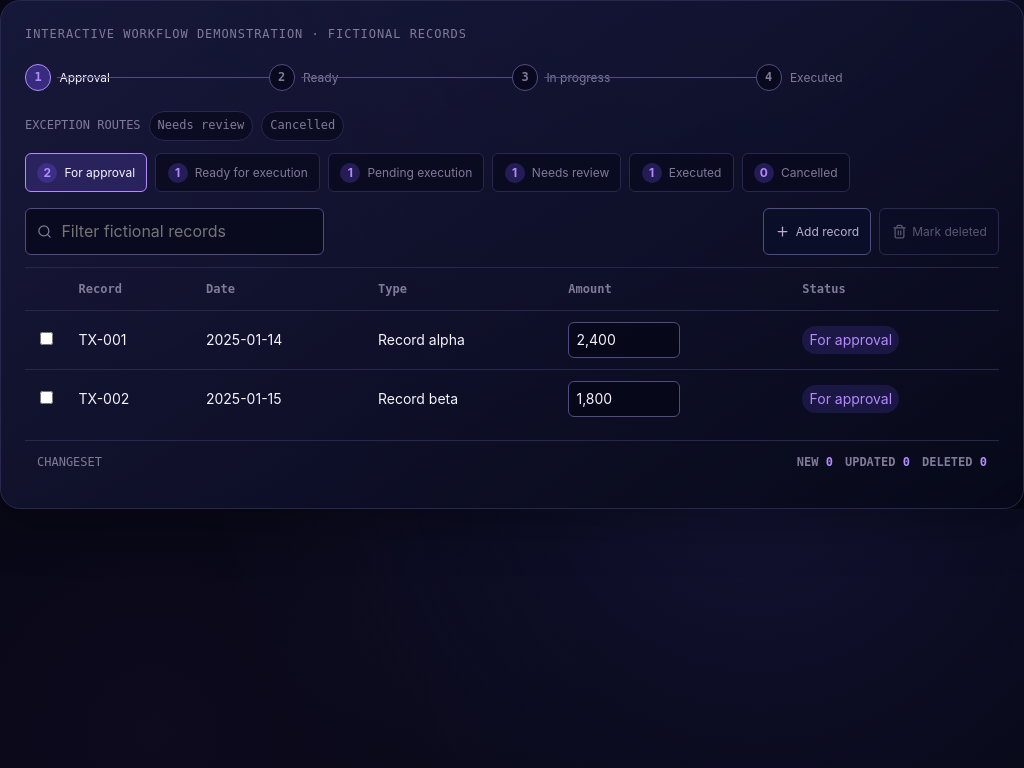
Test: TradeWorkflowDemo › switches workflow queues and exposes fictional records
Step 1. Click the button "1 Ready for execution" → (238, 172), box [155, 153, 320, 192]
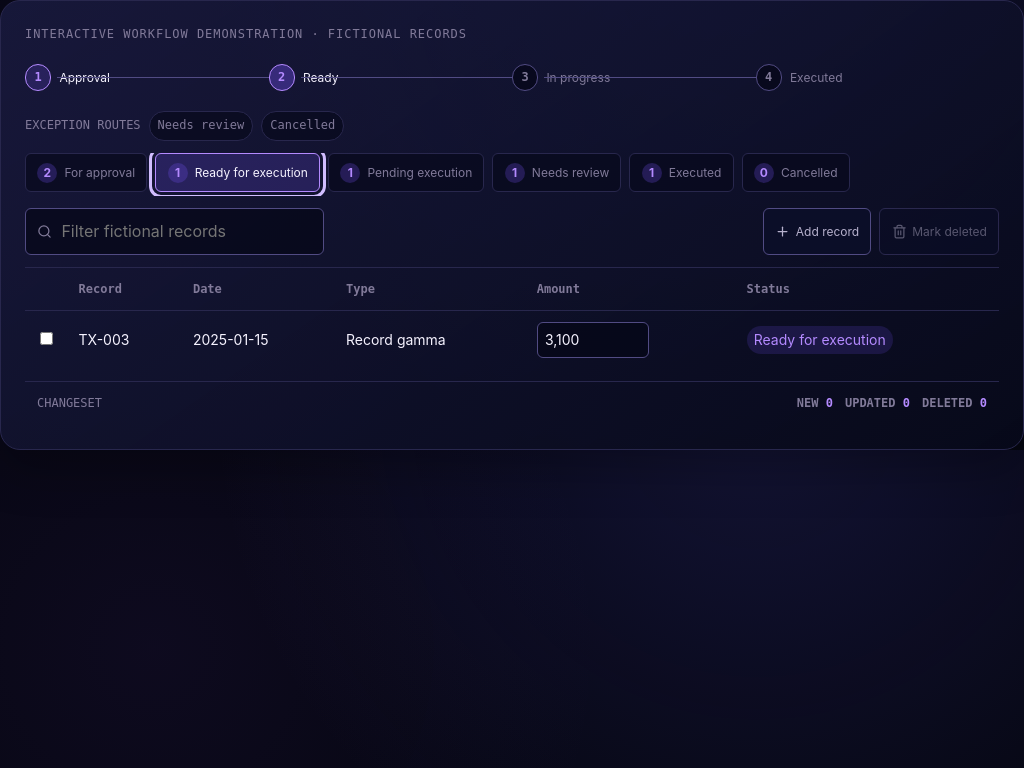
Now the text "TX-003" is shown, box [67, 310, 182, 369]
Now the text "TX-001" is gone
